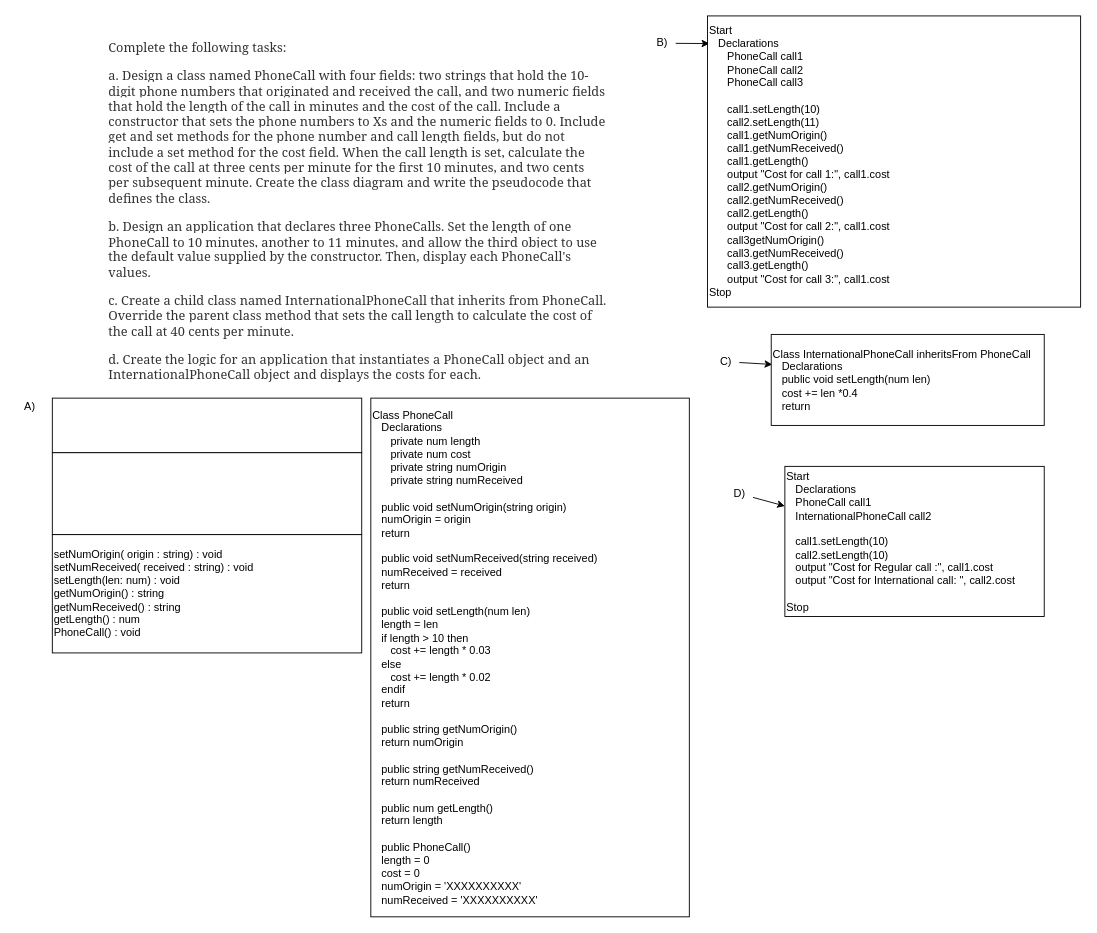
The diagram is 1097 pixels wide and 933 high, and some of its shapes have lost their labels. The shapes that lost their labels are listed below. From the top down, each one's centre as x and y in pixels, then its label:
At point (206, 425): "PhoneCall".
At point (206, 493): "numOrigin: string numReceived : string length : num cost : num".
